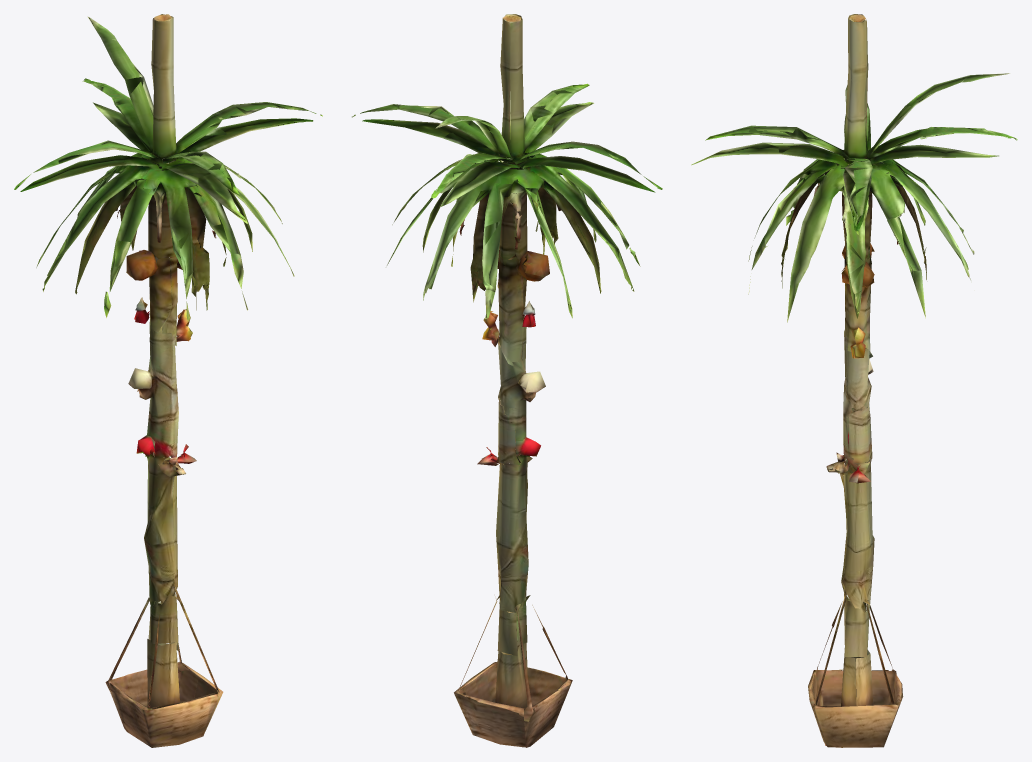
Rendered from penjor.glb.
3 views of the same model, side by side, from view 1: azimuth 30°, elevation 25°; view 2: azimuth 150°, elevation 25°; view 3: azimuth 270°, elevation 25° (orthographic).
Visible parts, largest first — view 1: model; view 2: model; view 3: model.
Part boxes in pixels (x1,y1,x2,y2): model: (14, 14, 322, 747); model: (352, 14, 662, 747); model: (691, 14, 1017, 747).
Bounding box in the file's own units: 0.4519 × 1 × 0.411.
1 material, 1 textured.
